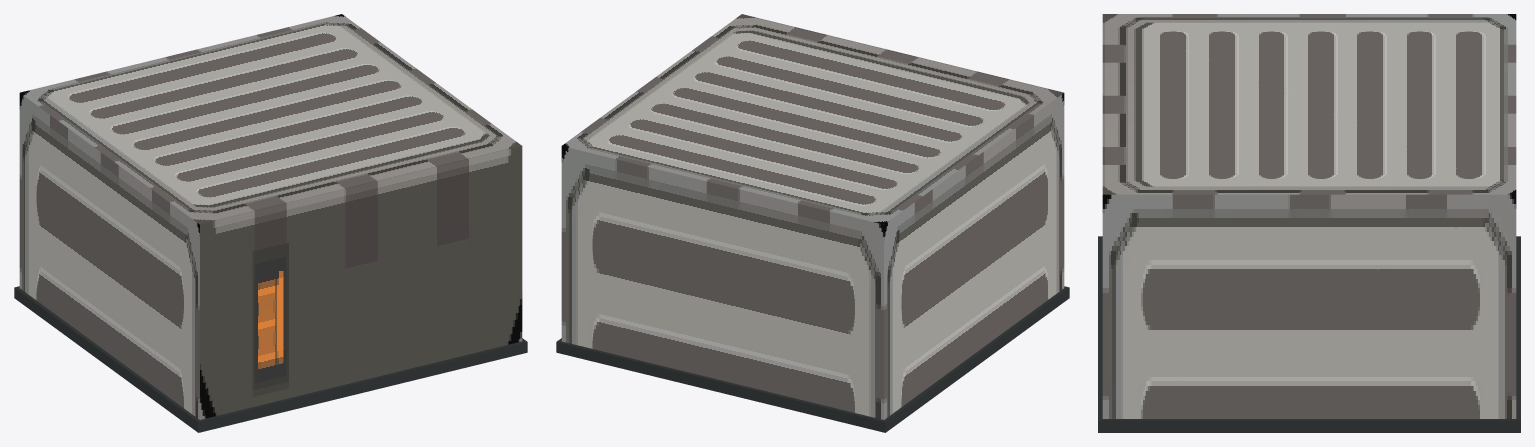
The model's file is Building_AncientSealedContainer.glb.
The picture shows the model from 3 angles, left to right: view 1: azimuth 30°, elevation 25°; view 2: azimuth 150°, elevation 25°; view 3: azimuth 270°, elevation 25°; orthographic projection. The views are drawn at different scales.
Parts seen in each view (by area): view 1: AncientSealedContainer; view 2: AncientSealedContainer; view 3: AncientSealedContainer.
Part boxes in pixels (x1,y1,x2,y2): AncientSealedContainer: [14, 14, 527, 432]; AncientSealedContainer: [556, 14, 1069, 432]; AncientSealedContainer: [1098, 14, 1520, 432].
Size of the model in its own units: 1.94 by 1.16 by 1.88.
1 material, 1 textured.
